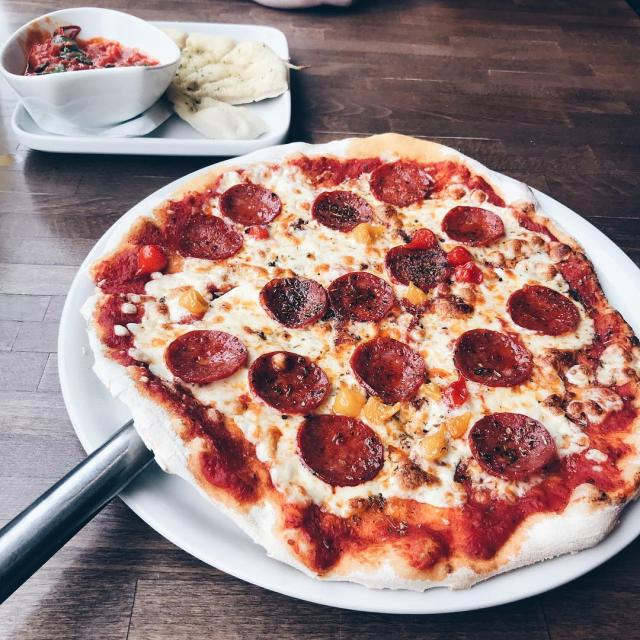pepperoni: (466, 404, 558, 481), (290, 414, 384, 489), (247, 344, 330, 419), (452, 326, 536, 389), (159, 327, 247, 387), (502, 280, 580, 334), (326, 269, 397, 321), (257, 275, 328, 327), (304, 180, 372, 234), (383, 241, 451, 293), (215, 178, 285, 228), (442, 198, 506, 248), (176, 212, 244, 257), (369, 159, 432, 207)
pizza: (78, 129, 640, 596)
tomatoes: (444, 242, 485, 285), (418, 378, 474, 408), (131, 238, 170, 276), (361, 389, 401, 425), (328, 384, 366, 420), (412, 428, 451, 462), (434, 411, 472, 441), (174, 285, 209, 316), (406, 225, 442, 252), (348, 220, 384, 246), (400, 278, 428, 310), (243, 224, 271, 244)
